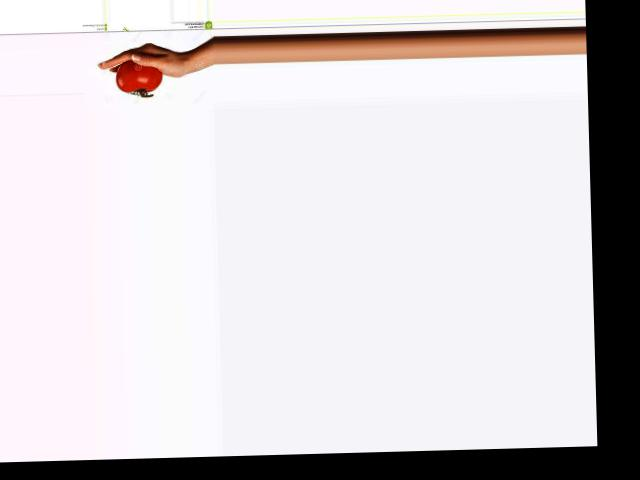tomato: (115, 59, 162, 92)
